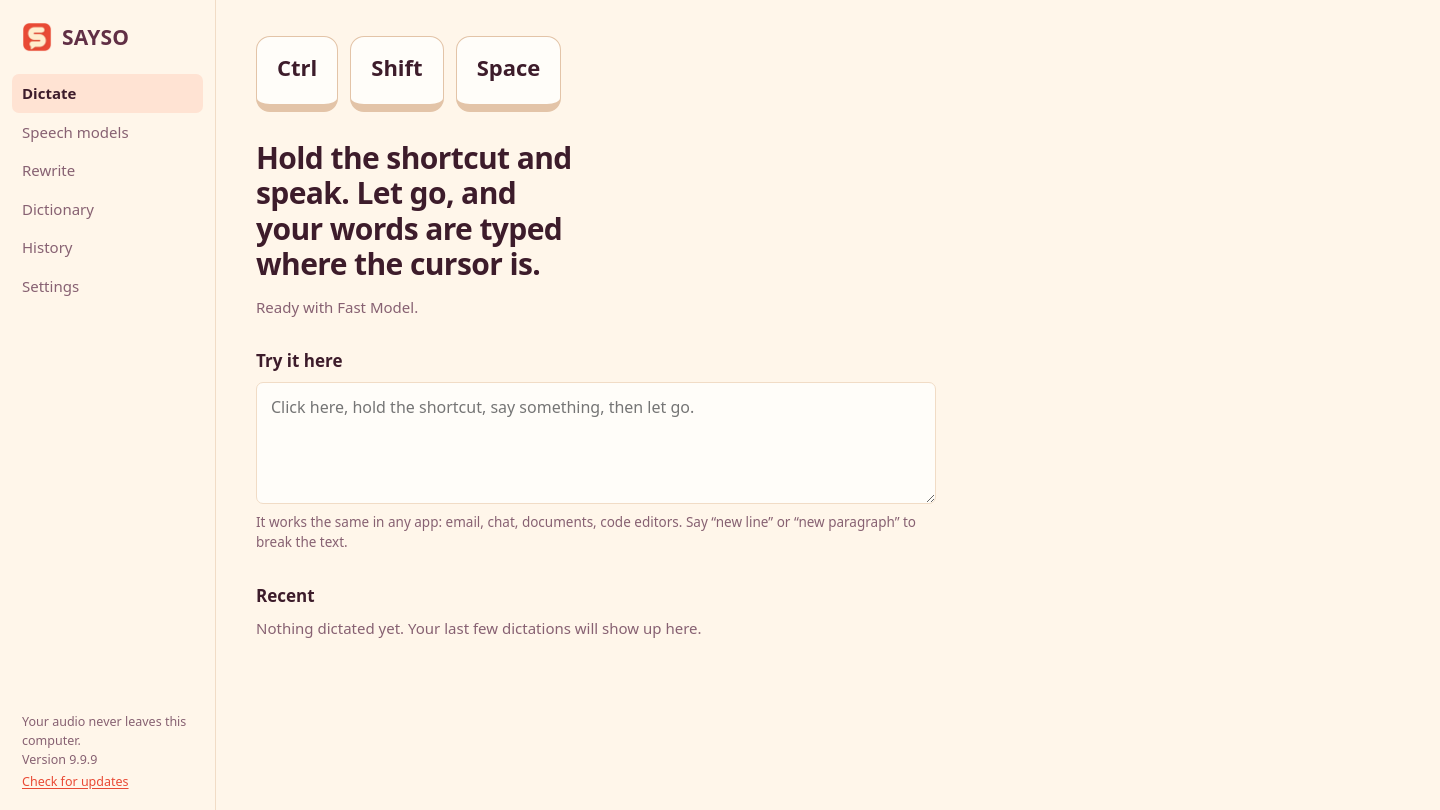
Scenario: settings › puts the old value back and says why when a change is refused
This screenshot has width=1440, height=810.
Expected: the navigation bar is shown, top-left (0, 0), bottom-right (216, 809)
Click the button "Settings".
click(108, 286)  # box top-left (12, 266), bottom-right (203, 305)
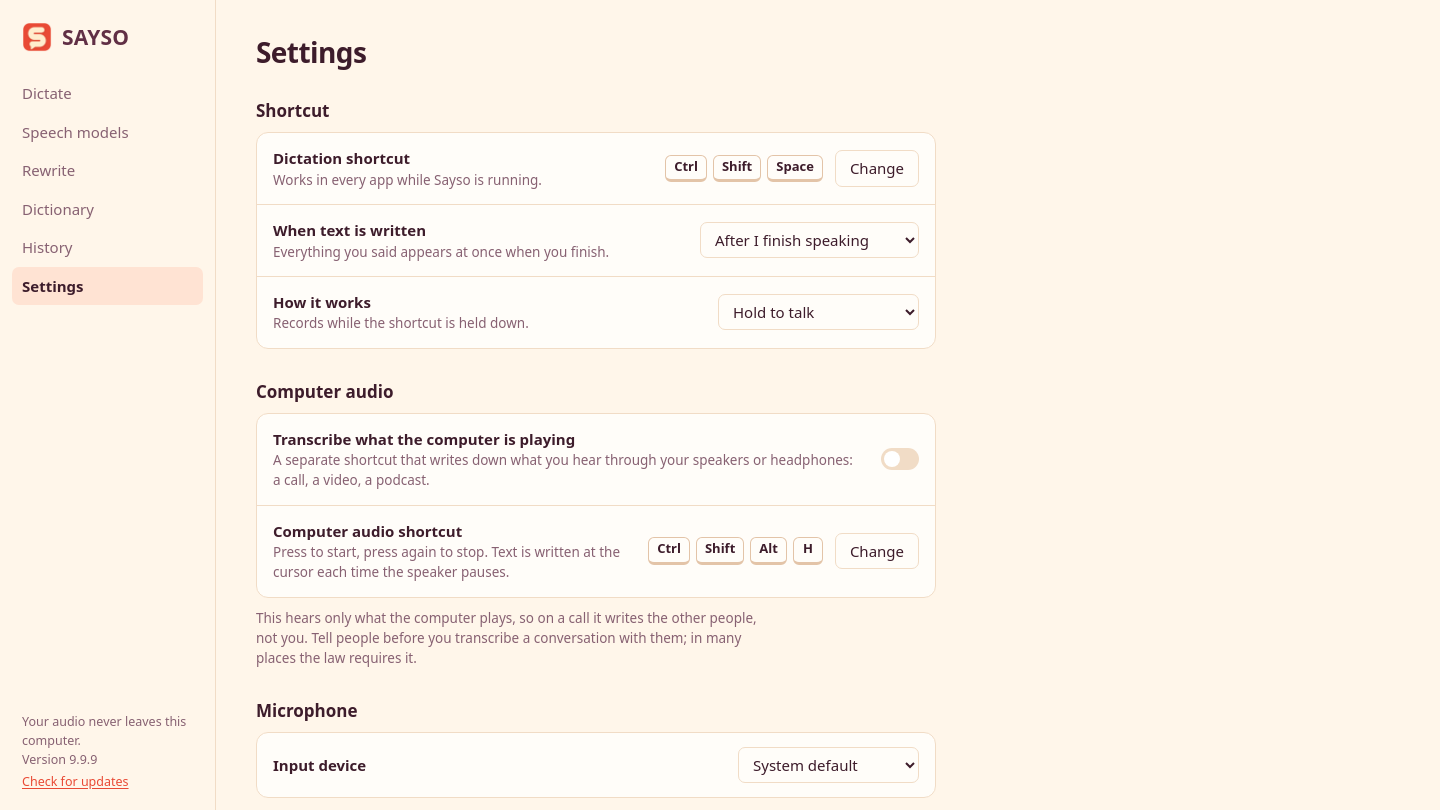
Expected: the heading "Settings" is shown, top-left (256, 33), bottom-right (366, 71)
Select "Press to start and stop" in the dropdown named "How the shortcut works" at {"x": 818, "y": 312}, box top-left (718, 294), bottom-right (919, 330)
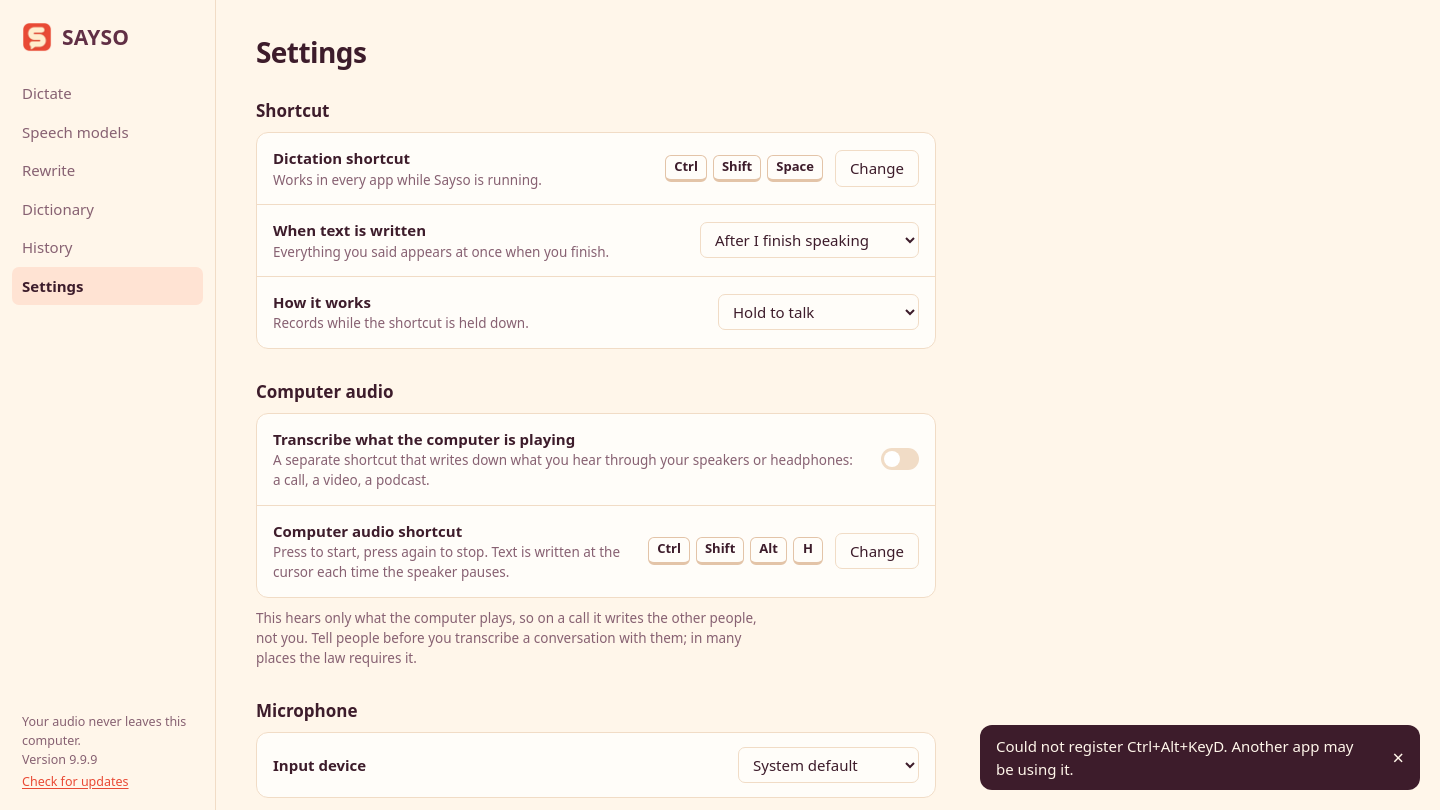
Expected: the message shows "Another app may be using it.", top-left (996, 736), bottom-right (1354, 778)
